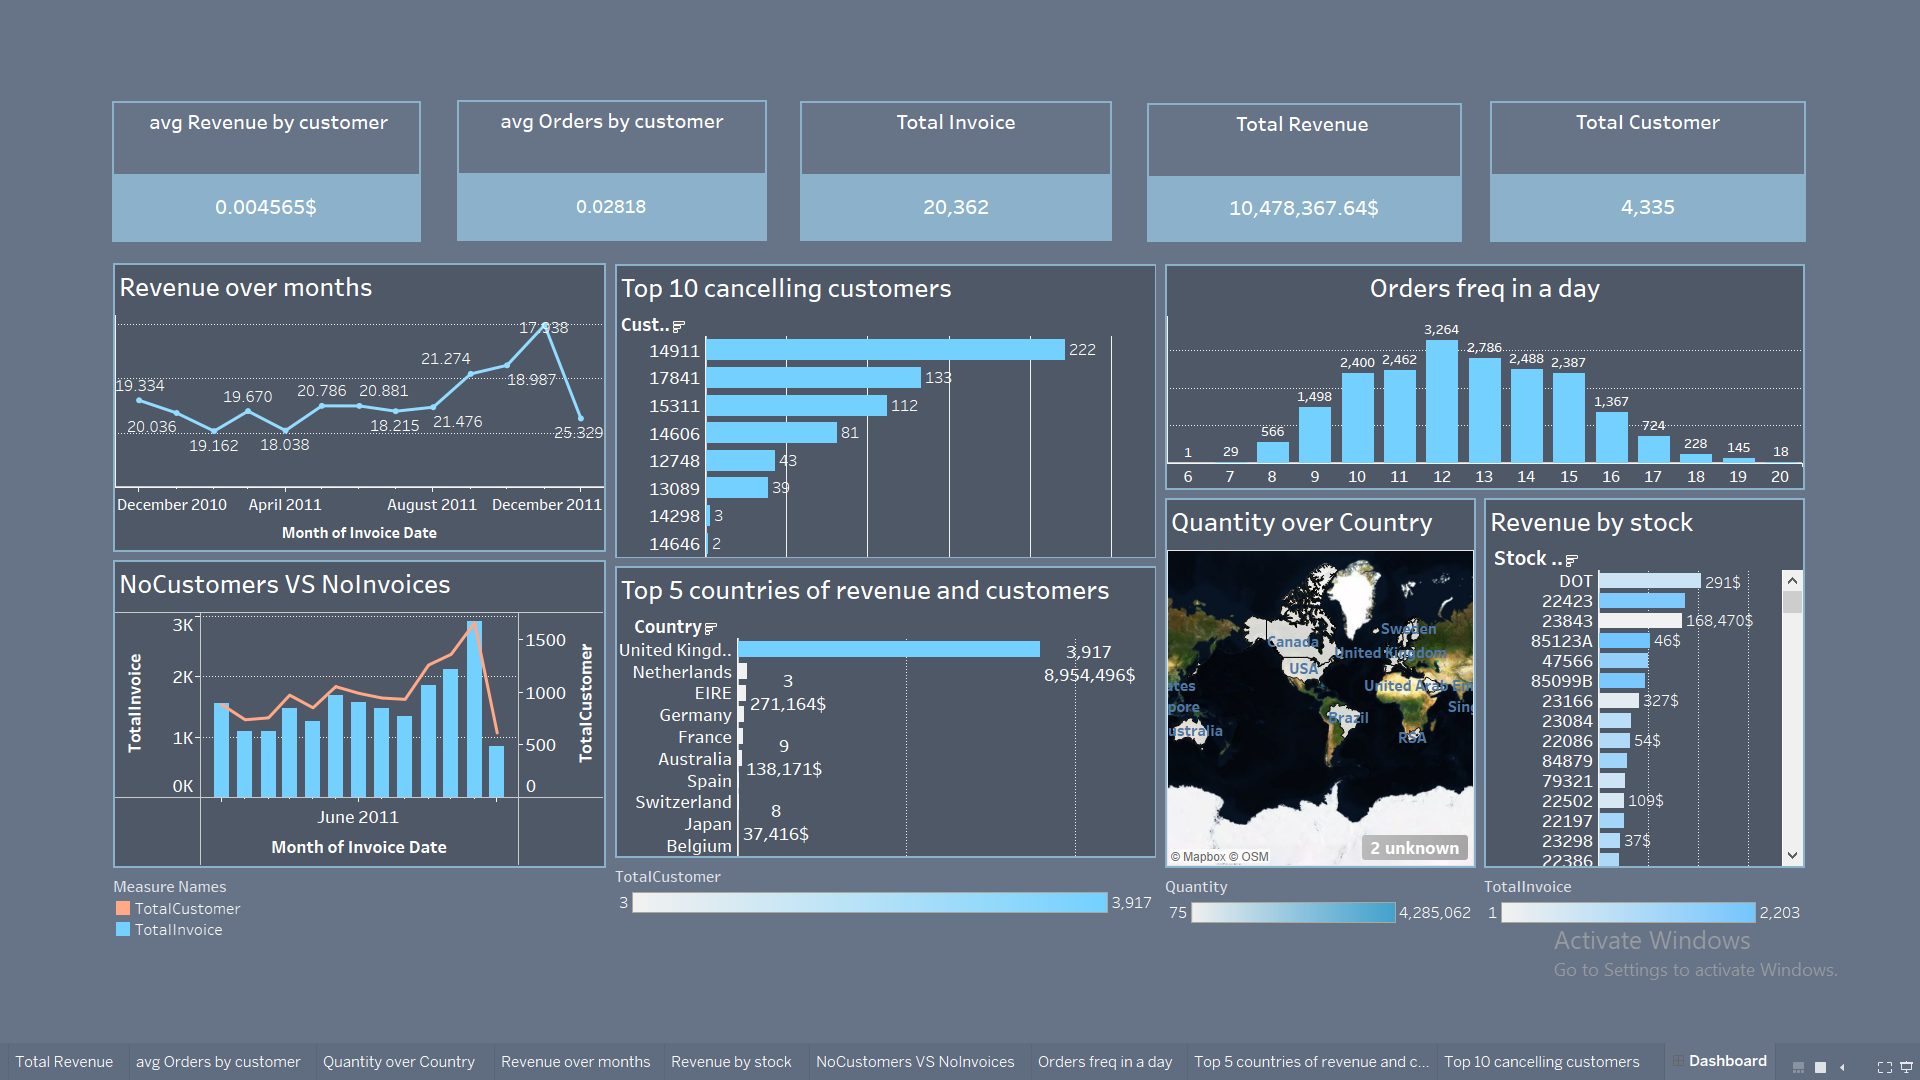

This screenshot's page, from the dashboard's own definition file:
{"tool":"tableau","page":{"name":"Dashboard","canvas":[1000,1000],"units":"permille","ordinal":0},"visuals":[{"type":"worksheet","title":"avg Orders by customer","mark":"Automatic","box":[207.5,10.7,180.2,164.1]},{"type":"worksheet","title":" avg Revenue by customer","mark":"Automatic","box":[6.8,11.9,179.6,164.1]},{"type":"worksheet","title":"Total Invoice","mark":"Automatic","box":[407.2,11.9,181.4,162.9]},{"type":"worksheet","title":"TotaI Customer","mark":"Automatic","box":[808.2,11.9,183.9,164.1]},{"type":"worksheet","title":"Total Revenue ","mark":"Automatic","box":[608.6,14.3,183.2,161.7]},{"type":"worksheet","title":"Revenue over months","mark":"Automatic","rows":["Calculation_667940170598686723"],"cols":["InvoiceDate"],"box":[5.5,195,294.9,353.2]},{"type":"worksheet","title":"Top 10 cancelling customers  ","mark":"Automatic","rows":["CustomerID"],"cols":["Calculation_667940170651963399"],"box":[302.8,196.2,311.9,351.9]},{"type":"worksheet","title":"Orders freq in a day","mark":"Bar","rows":["Calculation_667940170596089857"],"cols":["InvoiceDate"],"box":[617.1,196.2,376.8,278.2]},{"type":"worksheet","title":"Quantity over Country ","mark":"Automatic","box":[617.1,474.4,185.4,431.6]},{"type":"worksheet","title":"Revenue by stock ","mark":"Automatic","rows":["StockCode"],"cols":["Calculation_667940170598686723"],"box":[802.6,474.4,191.4,431.6]},{"type":"worksheet","title":"Top 5 countries of revenue and customers ","mark":"Automatic","rows":["Country"],"cols":["Calculation_667940170598686723"],"box":[302.8,548.1,311.9,356.7]},{"type":"worksheet","title":"NoCustomers VS NoInvoices","mark":"Automatic","rows":["Calculation_667940170596089857","TotaIInvoice (copy)_667940170665123848"],"cols":["InvoiceDate"],"box":[5.5,548.2,294.9,357.9]},{"type":"legend","title":"Top 5 countries of revenue and customers ","param":"[federated.0u84e2p1d64e8a19bdigk1jorlyx].[usr:TotaIInvoice (copy)_66794017066512","box":[302.8,904.9,311.9,86.8]},{"type":"legend","title":"NoCustomers VS NoInvoices","param":"[federated.0u84e2p1d64e8a19bdigk1jorlyx].[:Measure Names]","box":[5.5,906.1,294.9,85.6]},{"type":"legend","title":"Quantity over Country ","param":"[federated.0u84e2p1d64e8a19bdigk1jorlyx].[sum:Quantity:qk]","box":[617.1,906.1,185.4,86.8]},{"type":"legend","title":"Revenue by stock ","param":"[federated.0u84e2p1d64e8a19bdigk1jorlyx].[usr:Calculation_667940170596089857:qk]","box":[802.6,906.1,191.4,86.8]}]}

Visuals, with their boxes on the dashboard's canvas, which has no fixed pixel size, in thousandths of its width and height (x1, y1, x2, y2). These are canvas units, not pixel positions in the 1920x1080 screenshot, which may show the page scaled, cropped or inside an application window:
"avg Orders by customer" worksheet: [x1=208, y1=11, x2=388, y2=175]
" avg Revenue by customer" worksheet: [x1=7, y1=12, x2=186, y2=176]
"Total Invoice" worksheet: [x1=407, y1=12, x2=589, y2=175]
"TotaI Customer" worksheet: [x1=808, y1=12, x2=992, y2=176]
"Total Revenue " worksheet: [x1=609, y1=14, x2=792, y2=176]
"Revenue over months" worksheet: [x1=6, y1=195, x2=300, y2=548]
"Top 10 cancelling customers  " worksheet: [x1=303, y1=196, x2=615, y2=548]
"Orders freq in a day" worksheet (Bar marks): [x1=617, y1=196, x2=994, y2=474]
"Quantity over Country " worksheet: [x1=617, y1=474, x2=802, y2=906]
"Revenue by stock " worksheet: [x1=803, y1=474, x2=994, y2=906]
"Top 5 countries of revenue and customers " worksheet: [x1=303, y1=548, x2=615, y2=905]
"NoCustomers VS NoInvoices" worksheet: [x1=6, y1=548, x2=300, y2=906]
"Top 5 countries of revenue and customers " legend: [x1=303, y1=905, x2=615, y2=992]
"NoCustomers VS NoInvoices" legend: [x1=6, y1=906, x2=300, y2=992]
"Quantity over Country " legend: [x1=617, y1=906, x2=802, y2=993]
"Revenue by stock " legend: [x1=803, y1=906, x2=994, y2=993]
